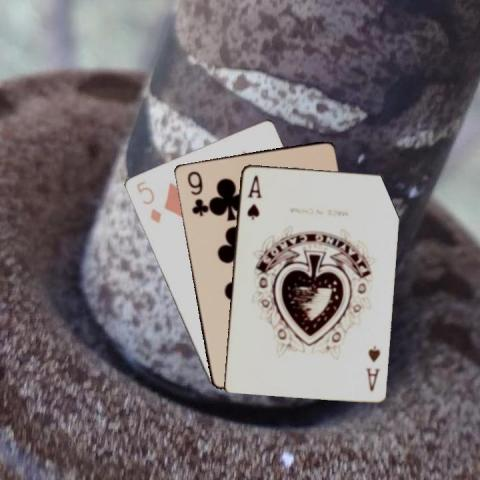5d: (132, 177, 162, 225)
9c: (184, 168, 206, 217)
As: (244, 172, 262, 222), (363, 342, 381, 392)
